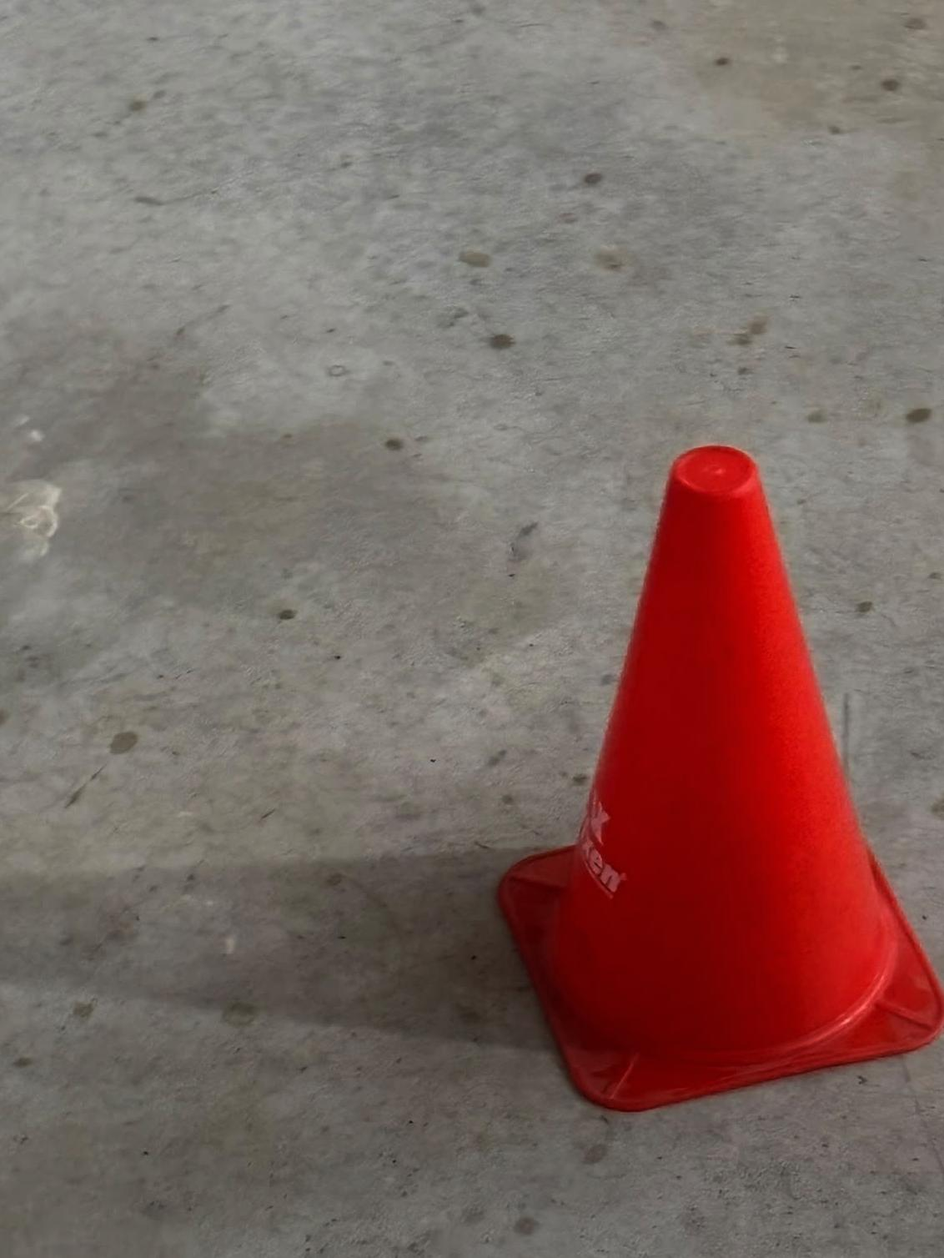0 cone: (499, 445, 944, 1110)
